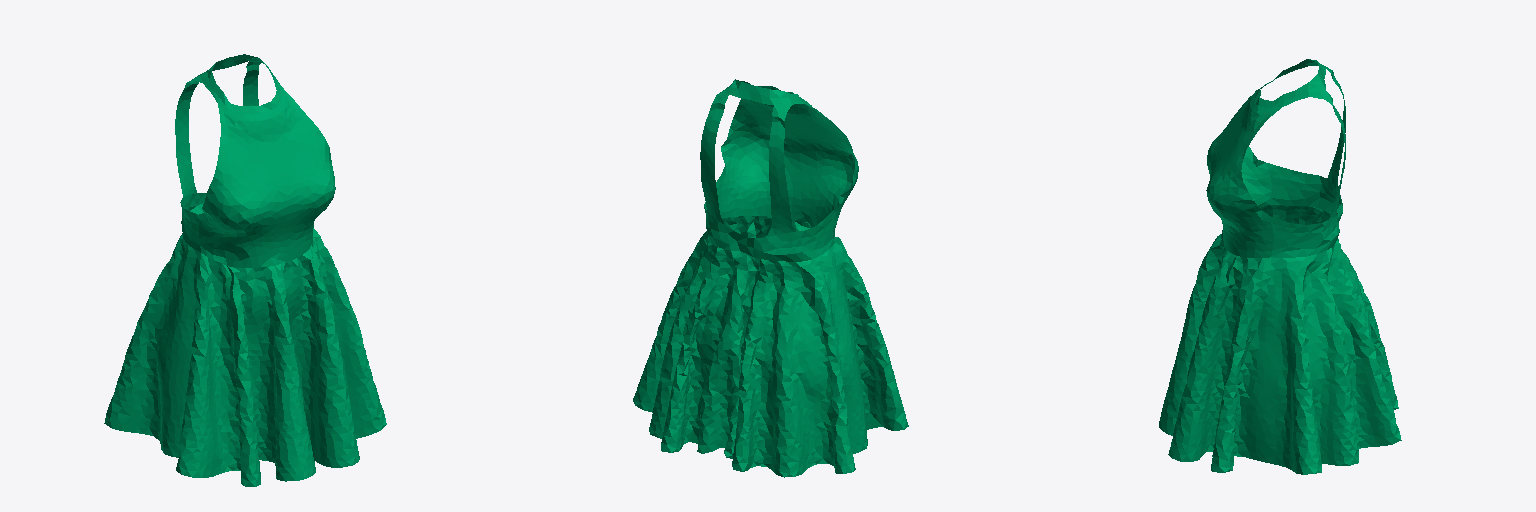
3 renders of one model, left to right at view 1: azimuth 30°, elevation 25°; view 2: azimuth 150°, elevation 25°; view 3: azimuth 270°, elevation 25°, orthographic.
Parts seen in each view (by area): view 1: medium_makehuman_green_noinside1:polySurface2 medium_makehuman_g; view 2: medium_makehuman_green_noinside1:polySurface2 medium_makehuman_g; view 3: medium_makehuman_green_noinside1:polySurface2 medium_makehuman_g.
Part boxes in pixels (x1,y1,x2,y2): medium_makehuman_green_noinside1:polySurface2 medium_makehuman_g: (104,54,386,486); medium_makehuman_green_noinside1:polySurface2 medium_makehuman_g: (633,79,908,477); medium_makehuman_green_noinside1:polySurface2 medium_makehuman_g: (1159,59,1401,474).
Size of the model in its own units: 537 by 806 by 477.
7 materials, 1 textured.